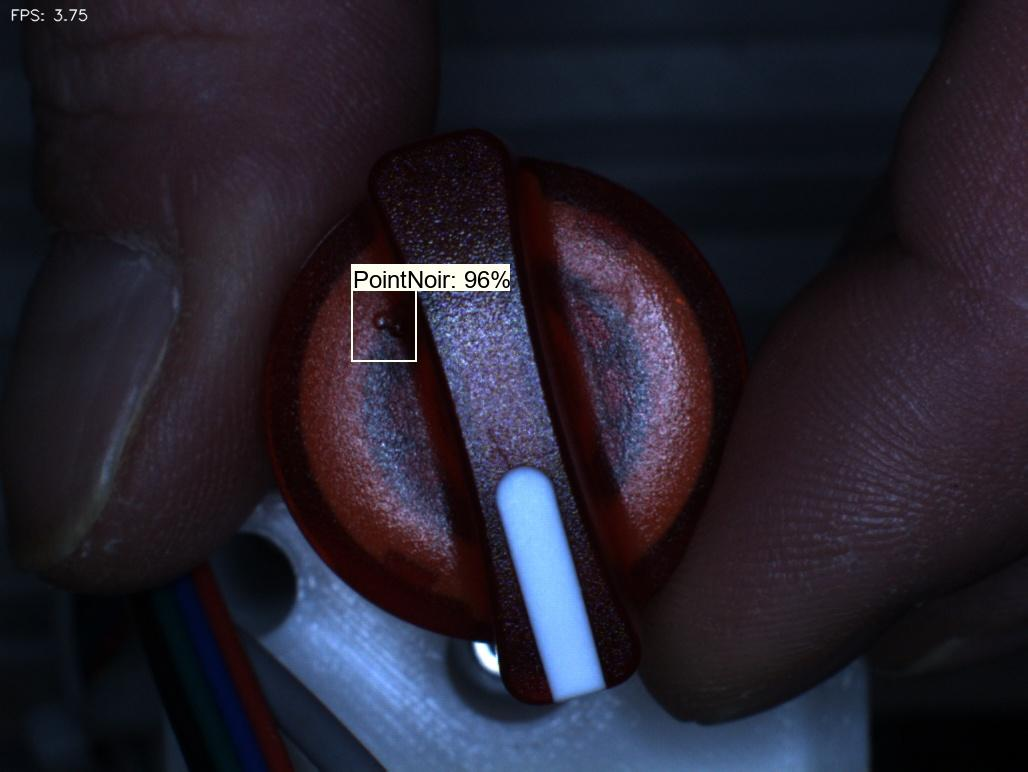Choc: (357, 296, 423, 362)
